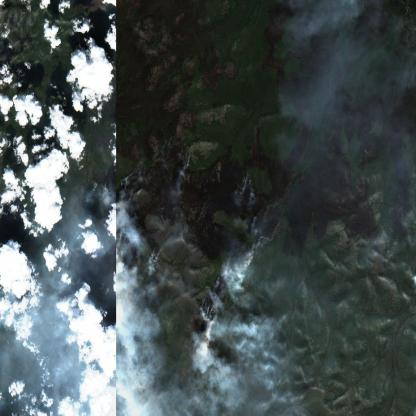fire: (192, 168, 280, 348), (116, 159, 168, 300)
